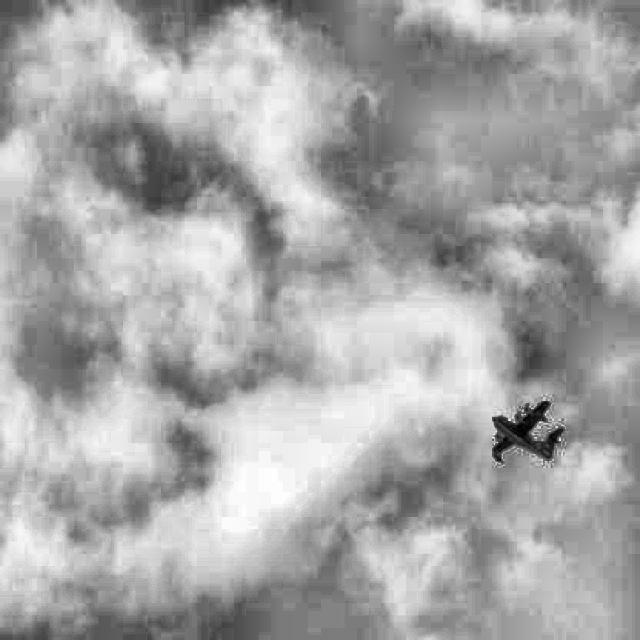US2: (492, 399, 566, 464)
